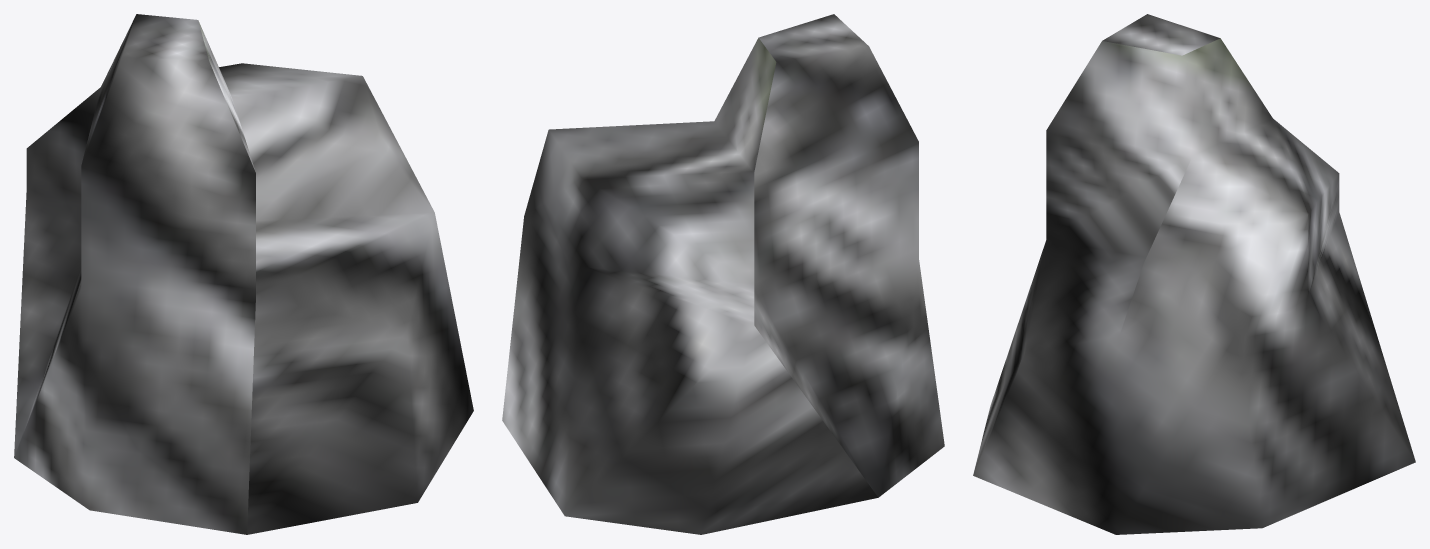
Rendered from Rock3.fbx.
3 renders of one model, left to right at view 1: azimuth 30°, elevation 25°; view 2: azimuth 150°, elevation 25°; view 3: azimuth 270°, elevation 25°, orthographic. The views are drawn at different scales.
Parts seen in each view (by area): view 1: Rock3; view 2: Rock3; view 3: Rock3.
Boxes of the visible parts, left/top/right/bottom form: Rock3: left=14, top=14, right=473, bottom=534; Rock3: left=502, top=14, right=944, bottom=534; Rock3: left=973, top=14, right=1415, bottom=534.
Size of the model in its own units: 226 by 232 by 247.
